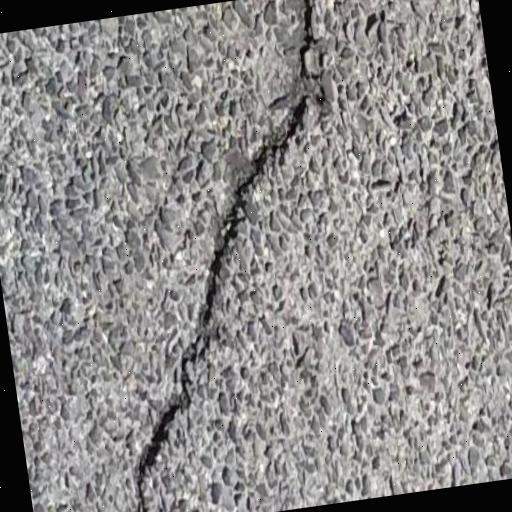spalling: (128, 0, 332, 512)
